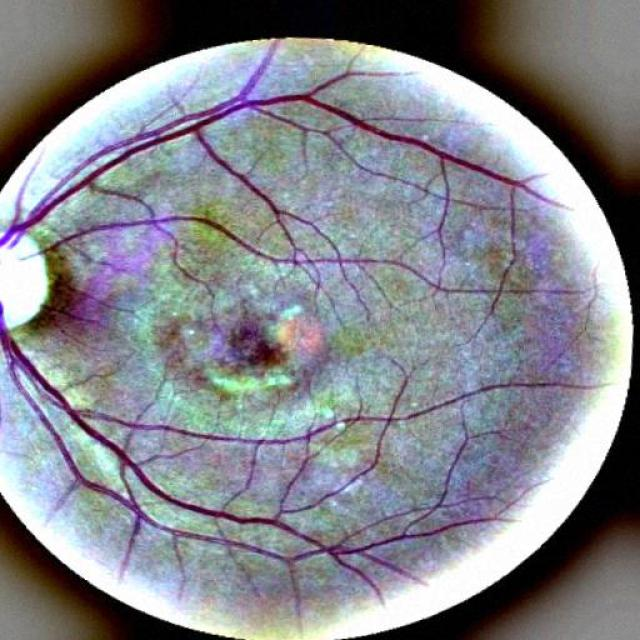Macula: (215, 302, 289, 376)
Nerves: (2, 84, 540, 299), (0, 329, 339, 571), (35, 211, 575, 304)
Optic Disk: (0, 216, 60, 347)
